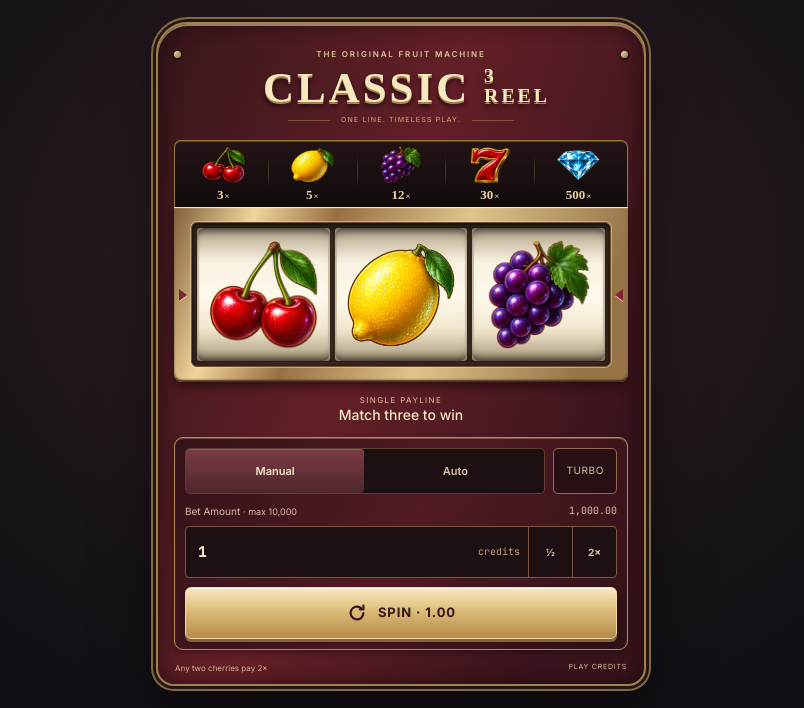
Scenario: Classic painted cabinet › highlights only the real two-cherry winners and records the unchanged two-times payout
This screenshot has width=804, height=708.
Click the button "Spin · 1.00" at (401,613), box [185,587,617,639]
Wait 1200 ms
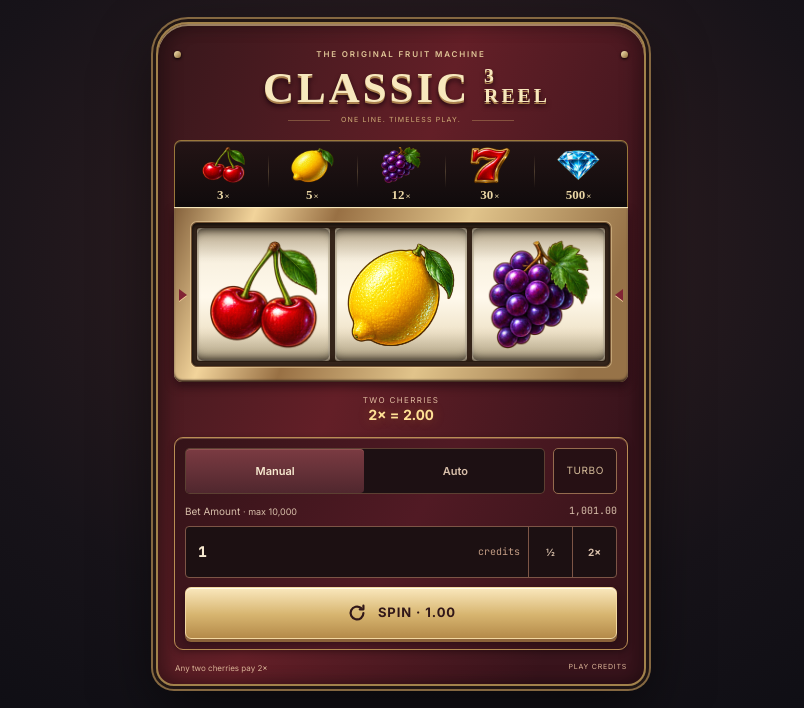
Check: the text "Two Cherries" is shown, box [363,396,439,404]
